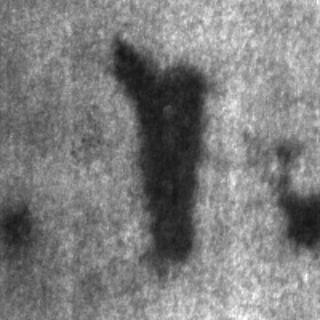patches: (106, 30, 206, 270), (280, 184, 318, 250), (1, 197, 36, 243)
